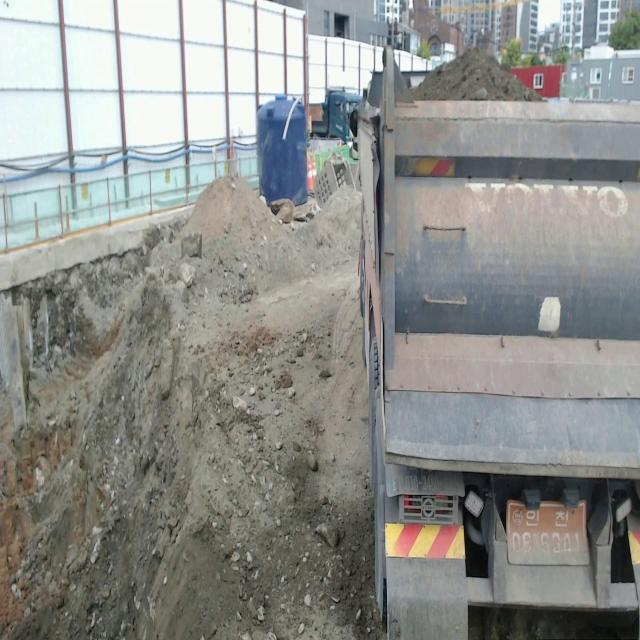white-sand: (0, 178, 382, 639)
